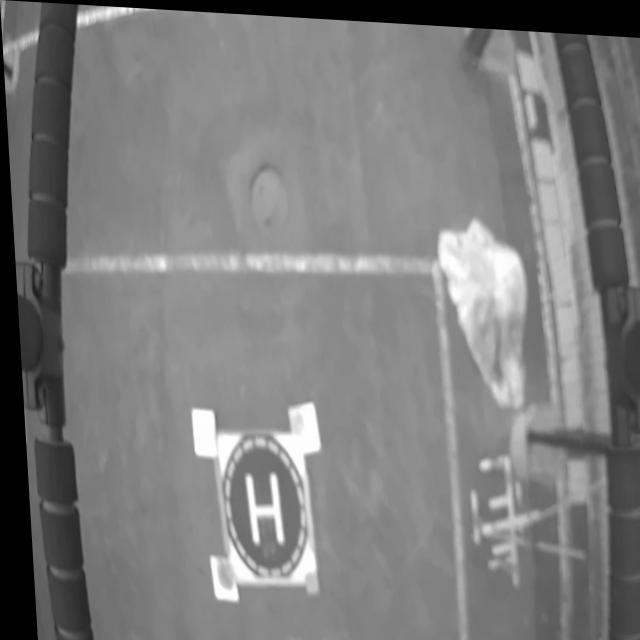Helipad: (238, 469, 278, 544)
